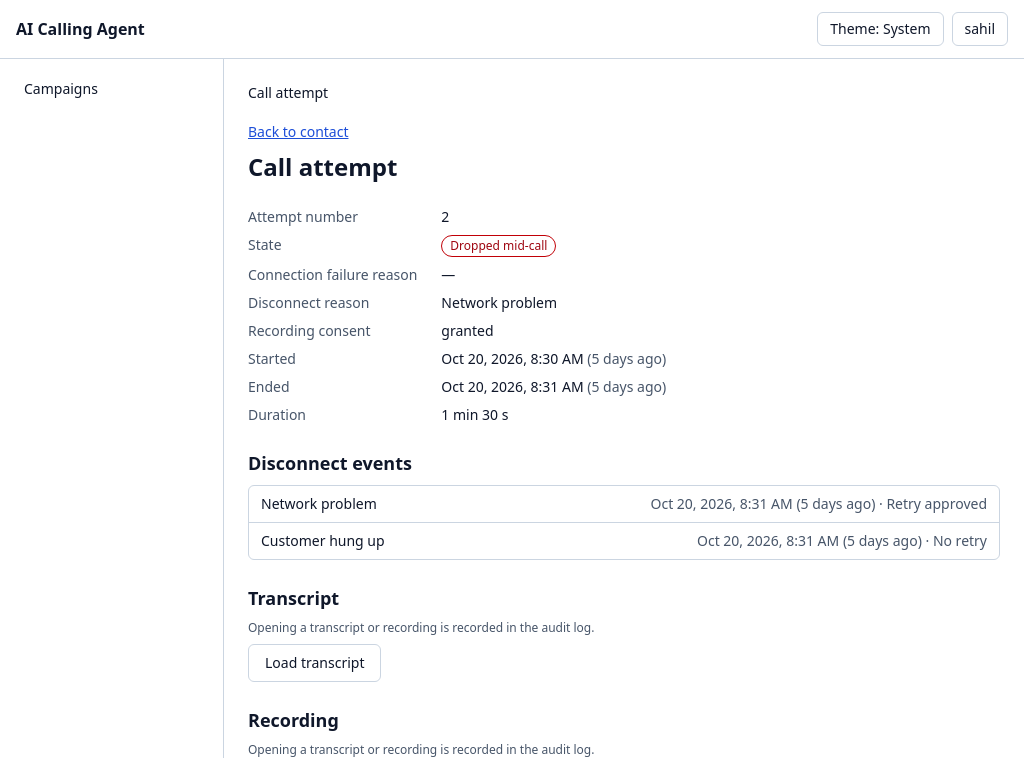
Test: transcript › Copy transcript writes the text to the clipboard
This screenshot has width=1024, height=758.
Click the button "Load transcript": (315, 663) 248,644 -> 382,682
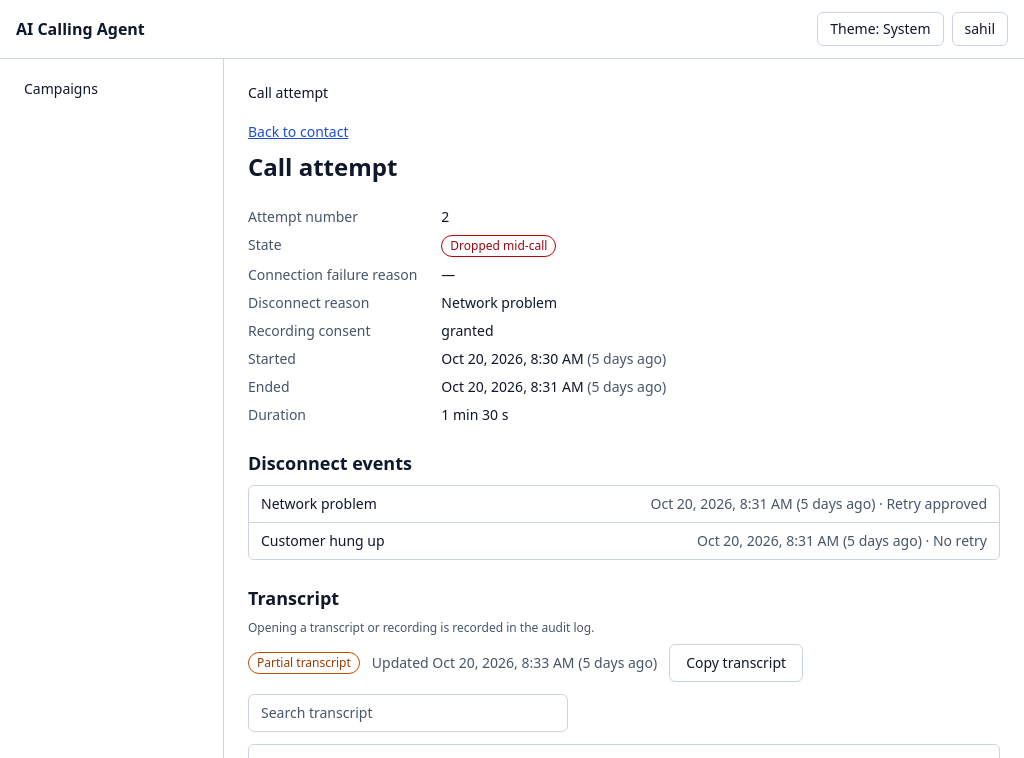
Click the button "Copy transcript": (736, 663) 669,644 -> 803,682
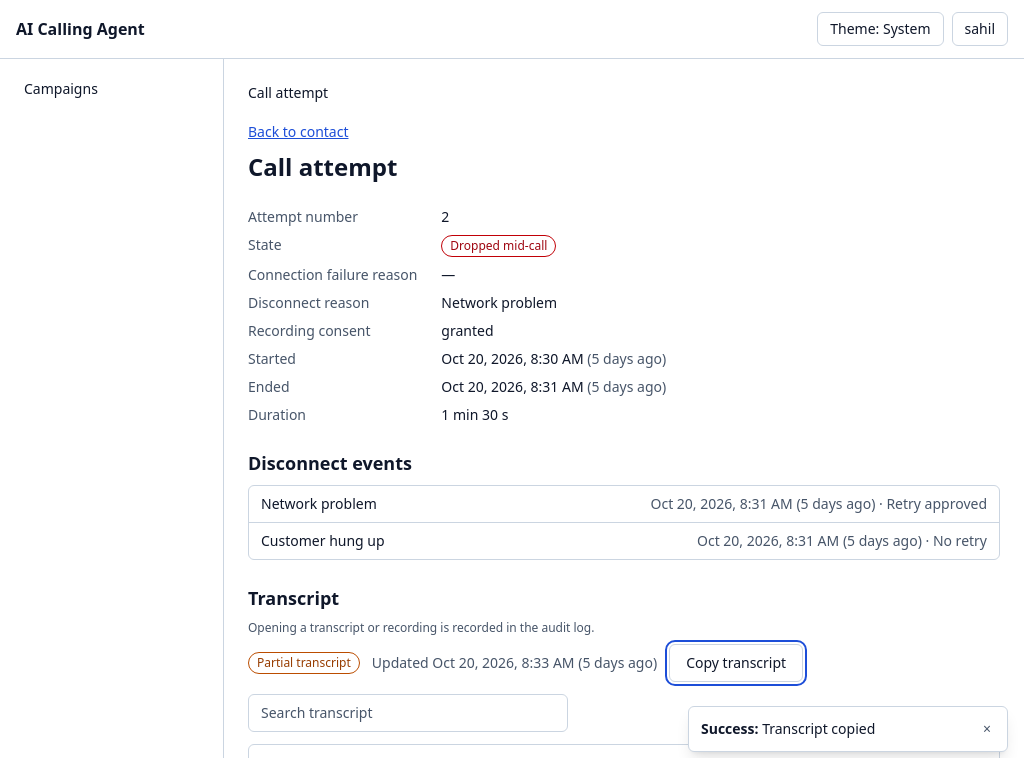
Result: the text "Transcript copied" is shown at 762,719 -> 875,738
